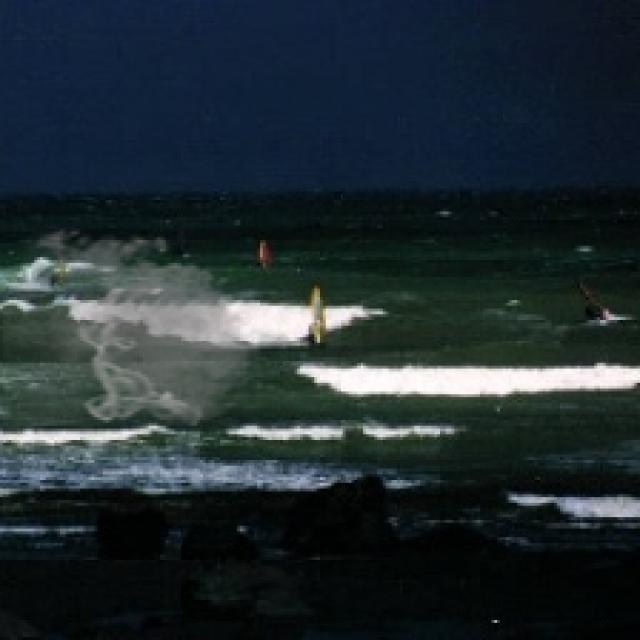Smoke: (2, 223, 274, 428)
